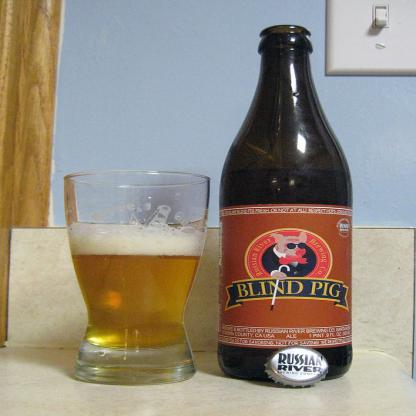drinking: (218, 25, 353, 382), (65, 170, 210, 385)
